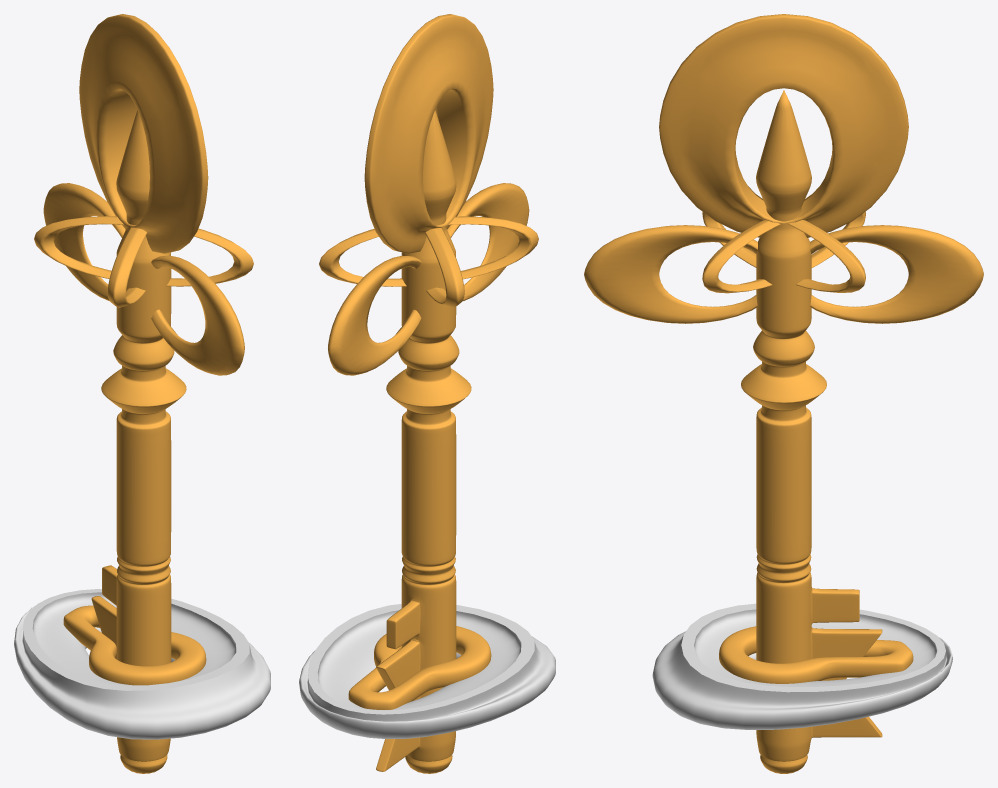
Rendered from kunci.fbx.
3 views of the same model, side by side, from view 1: azimuth 30°, elevation 25°; view 2: azimuth 150°, elevation 25°; view 3: azimuth 270°, elevation 25° (orthographic).
Visible parts, largest first — view 1: Cylinder, Circle.003, base, Circle, lobang, base.gold, Circle.002, Circle.001; view 2: Cylinder, Circle.003, base, Circle, lobang, base.gold, Circle.001, Circle.002; view 3: Cylinder, Circle.003, Circle, base, lobang, base.gold, Circle.002, Circle.001.
Part boxes in pixels (x1,y1,x2,y2): Cylinder: (91, 110, 186, 773); Circle.003: (79, 14, 208, 253); base: (14, 592, 270, 739); Circle: (43, 183, 244, 375); lobang: (63, 605, 206, 685); base.gold: (22, 589, 249, 690); Circle.002: (34, 216, 253, 286); Circle.001: (107, 228, 147, 307); Cylinder: (376, 110, 471, 773); Circle.003: (364, 14, 493, 253); base: (299, 610, 555, 739); Circle: (328, 183, 529, 375); lobang: (348, 626, 491, 709); base.gold: (307, 604, 534, 714); Circle.001: (319, 216, 538, 286); Circle.002: (425, 228, 464, 307); Cylinder: (741, 90, 882, 773); Circle.003: (659, 14, 908, 237); Circle: (584, 225, 983, 323); base: (652, 609, 952, 729); lobang: (719, 626, 913, 683); base.gold: (681, 603, 945, 692); Circle.002: (702, 211, 865, 293); Circle.001: (702, 212, 865, 292).
Bounding box in the file's own units: 31.06 × 108 × 51.79.
